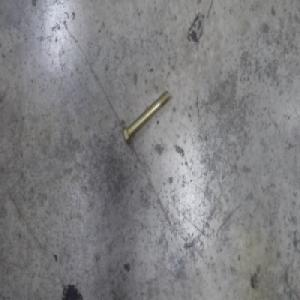Bolt: (122, 88, 172, 145)
